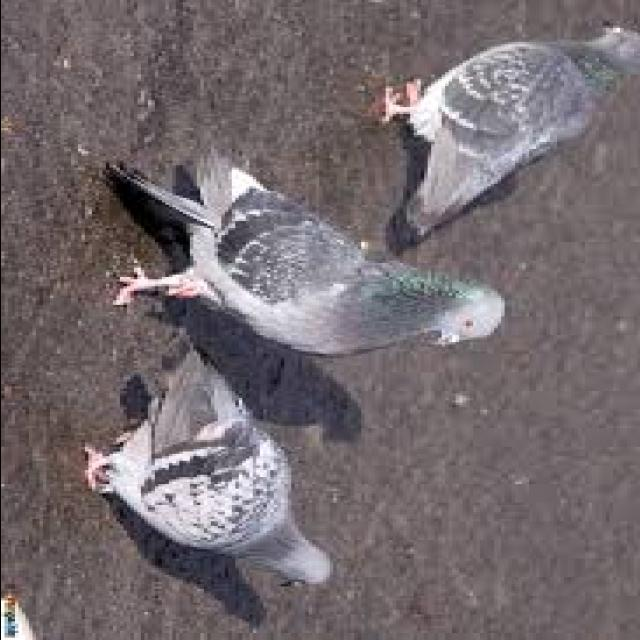pigeon: (74, 156, 528, 374)
